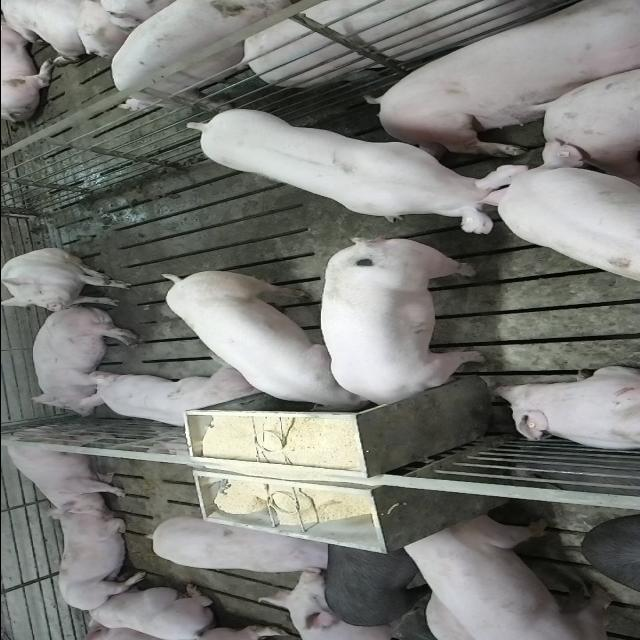Feeding: (160, 264, 363, 411), (318, 232, 484, 408)
Lateral_lying: (367, 4, 640, 158), (24, 304, 139, 418)
Sitting: (1, 248, 133, 312)
Standing: (185, 108, 526, 236), (230, 0, 582, 90), (395, 514, 621, 638), (481, 139, 640, 284), (104, 0, 308, 109), (146, 516, 332, 578), (2, 426, 132, 513), (320, 541, 426, 626)
Sternal_lying: (489, 365, 640, 453), (76, 365, 258, 431), (42, 506, 140, 611), (68, 584, 216, 640)
